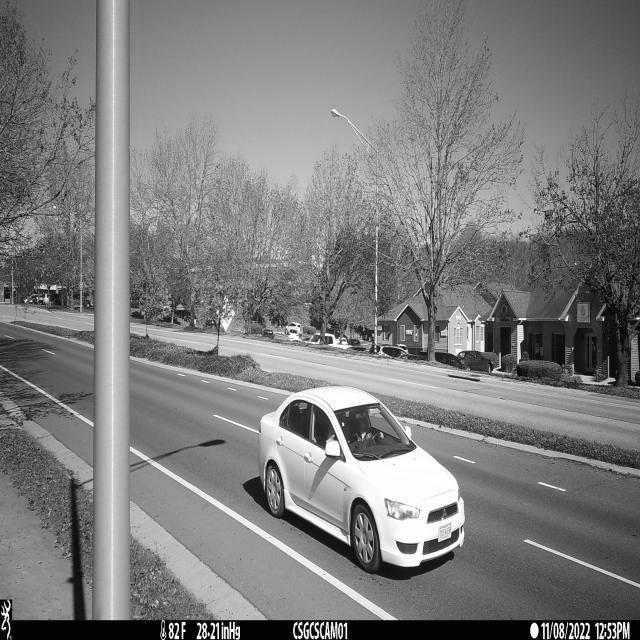Sedan: (258, 387, 465, 581)
